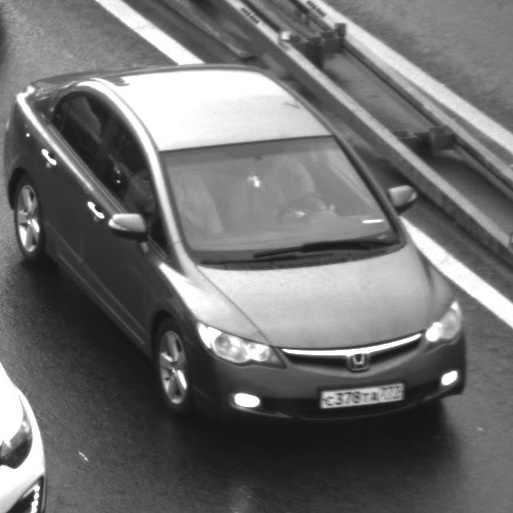plate: (309, 372, 413, 416)
